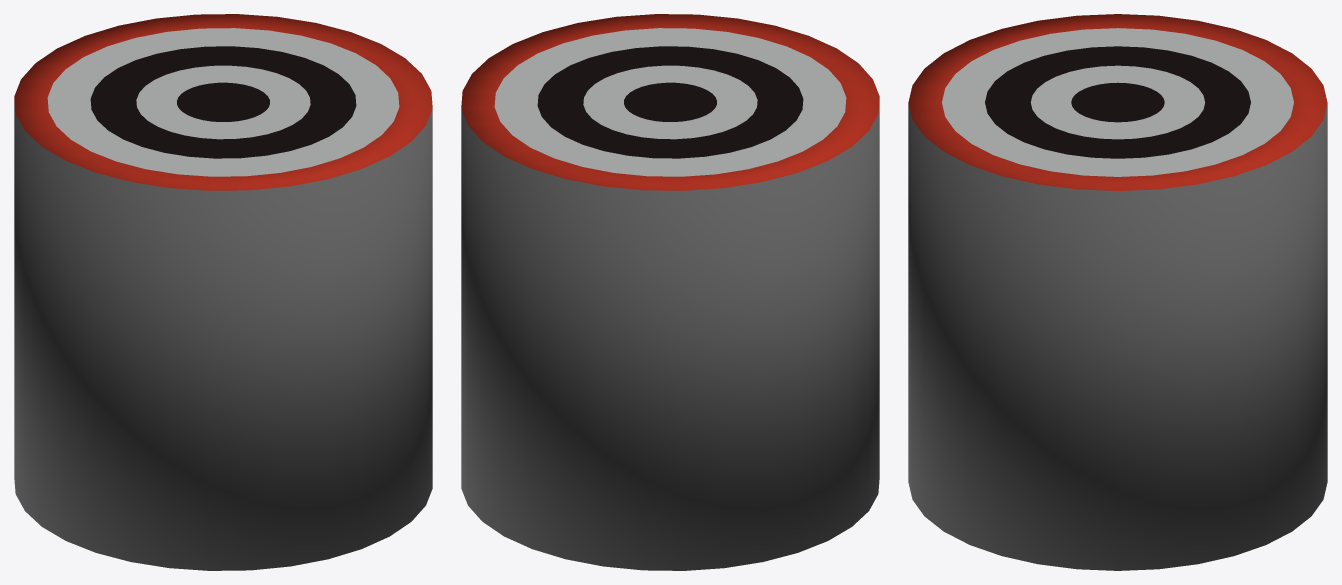
The model's file is parcbrave.fbx.
The picture shows the model from 3 angles, left to right: view 1: azimuth 30°, elevation 25°; view 2: azimuth 150°, elevation 25°; view 3: azimuth 270°, elevation 25°; orthographic projection.
Parts seen in each view (by area): view 1: Cylinder.001; view 2: Cylinder.001; view 3: Cylinder.001.
Boxes of the visible parts, x1,y1,x2,y2 form: Cylinder.001: (14,14,432,570); Cylinder.001: (461,14,879,570); Cylinder.001: (908,14,1327,570).
Bounding box in the file's own units: 200 × 200 × 200.
